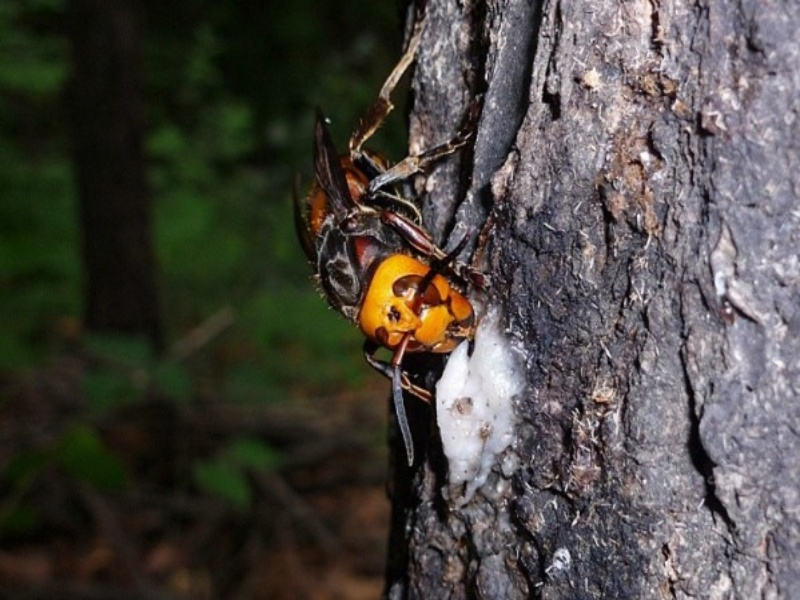asian_giant_hornet: (286, 14, 534, 490)
